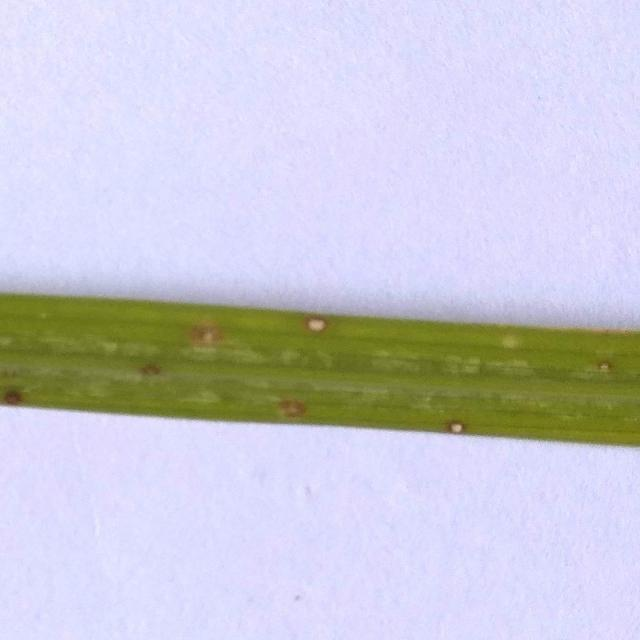Leaf_Blast: (87, 303, 271, 360), (406, 394, 497, 474), (225, 376, 340, 412), (570, 335, 637, 388), (2, 370, 81, 410), (288, 298, 349, 347)
